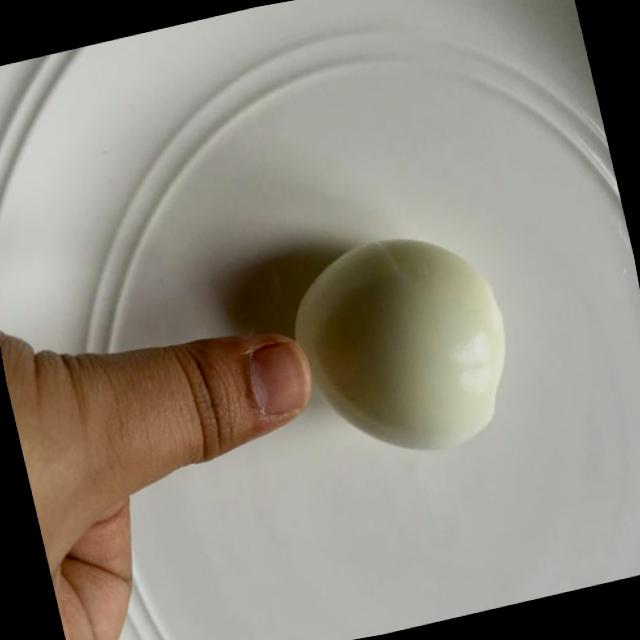Egg: (270, 189, 547, 500)
Finger: (122, 299, 324, 492)
